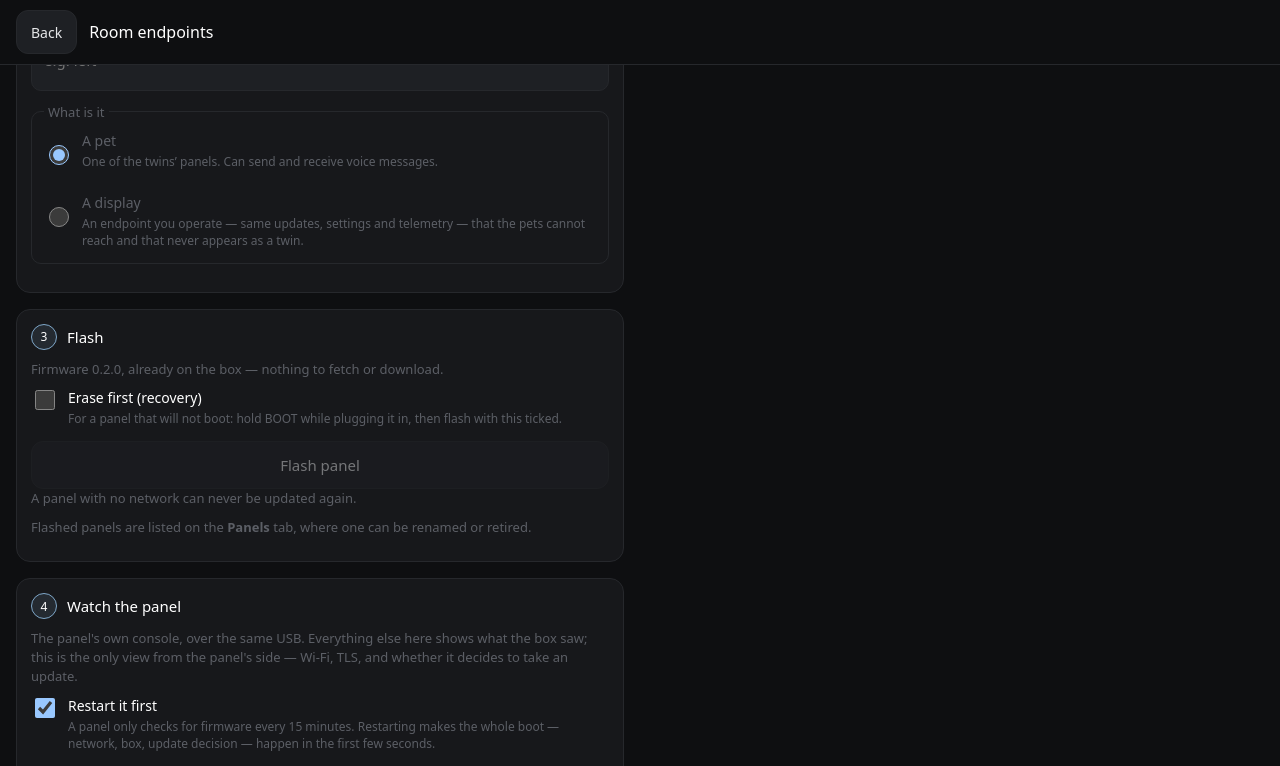
Test case: EndpointsScreen › offers erase as the recovery path, relabelling the action
The image size is (1280, 766).
(page scrolled)
Click the checkbox labelled "Erase first".
click(45, 400)  # box [35,390,55,410]
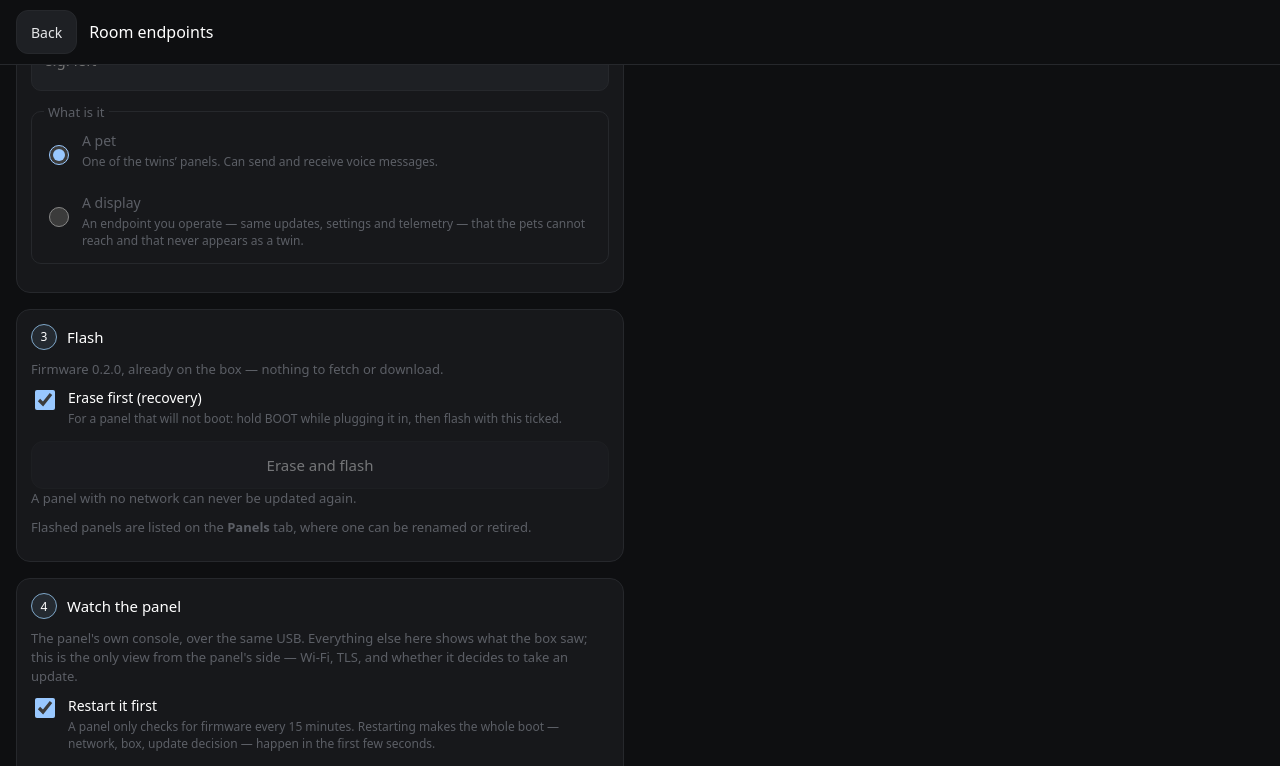
Check: the text "hold BOOT" is shown, box [68,410,562,427]
Check: the button "Erase and flash" is shown, box [31,441,609,489]
